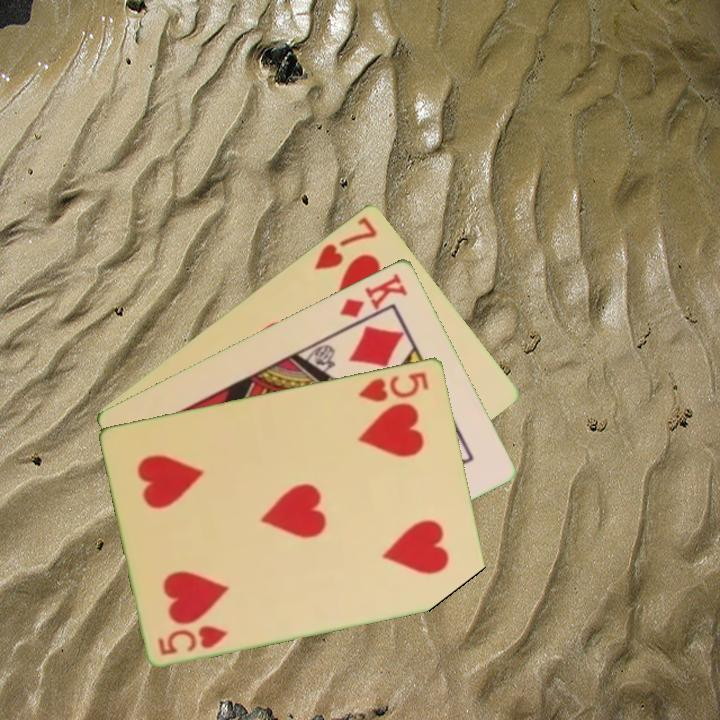5h: (355, 368, 432, 405), (154, 621, 231, 658)
7h: (310, 212, 381, 273)
Kd: (335, 268, 411, 320)
